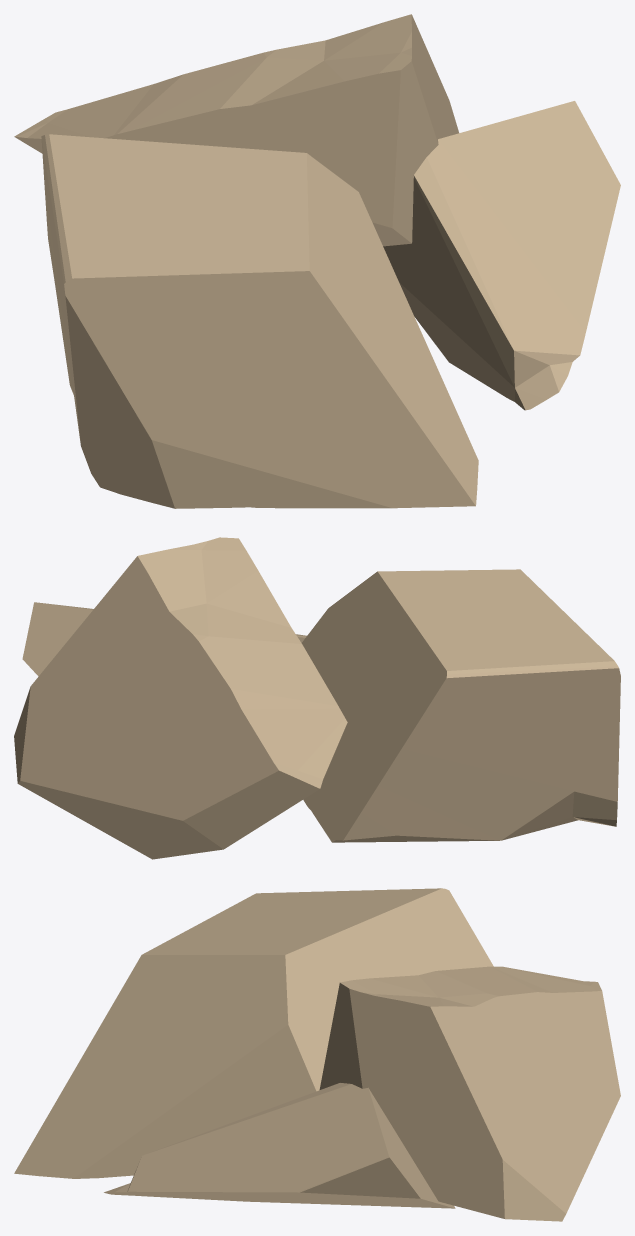
File: SM_stone_debris_11.fbx
3 renders of one model, top to bottom at view 1: azimuth 30°, elevation 25°; view 2: azimuth 150°, elevation 25°; view 3: azimuth 270°, elevation 25°, orthographic. The views are drawn at different scales.
Parts seen in each view (by area): view 1: stone_debris_11; view 2: stone_debris_11; view 3: stone_debris_11.
Boxes of the visible parts, <box> form: stone_debris_11: <box>14,14,620,508</box>; stone_debris_11: <box>14,537,620,859</box>; stone_debris_11: <box>14,888,620,1221</box>.
Size of the model in its own units: 300 by 142 by 308.
